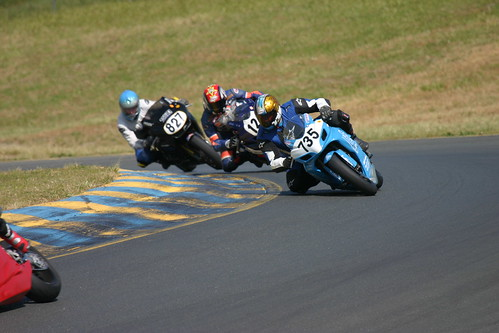helmet: (250, 92, 281, 131), (117, 86, 140, 121), (200, 82, 225, 114)
